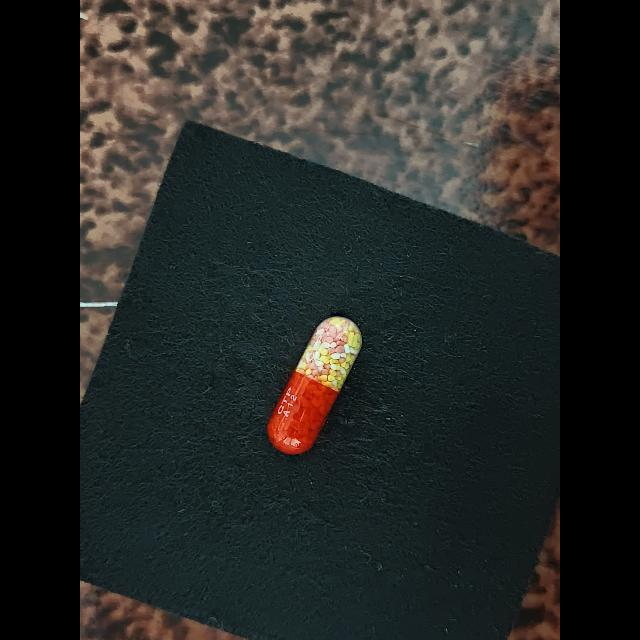Intact Capsule: (267, 316, 362, 454)
